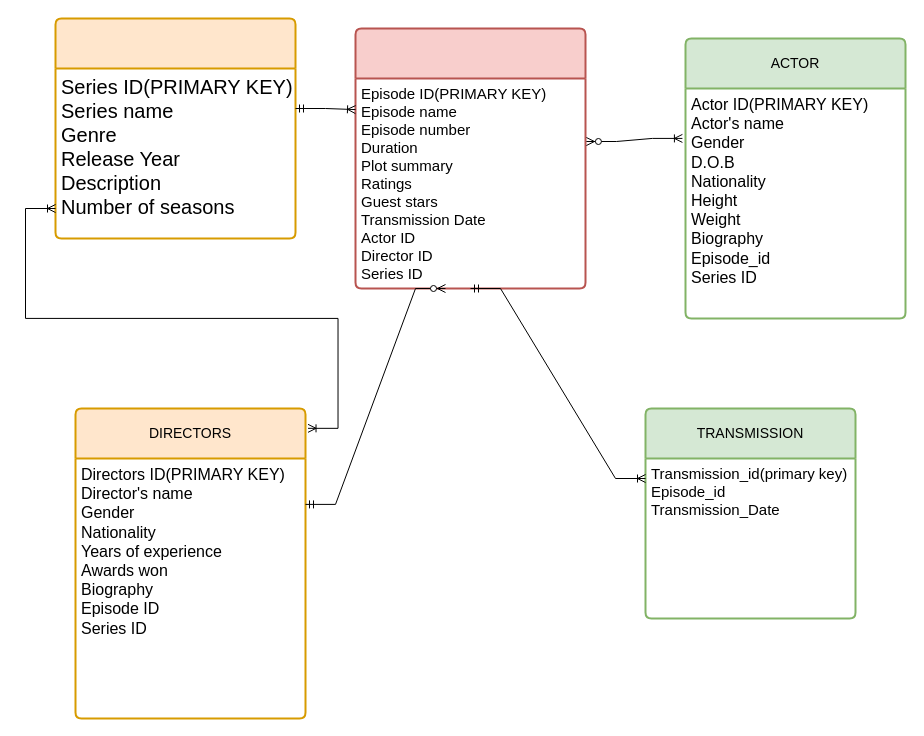
The diagram is 924 pixels wide and 736 high, and some of its shapes have lost their labels. Each missing label, with the box of its shape:
EPISODES: (354, 27, 586, 289)
TV SERIES: (54, 17, 296, 239)
